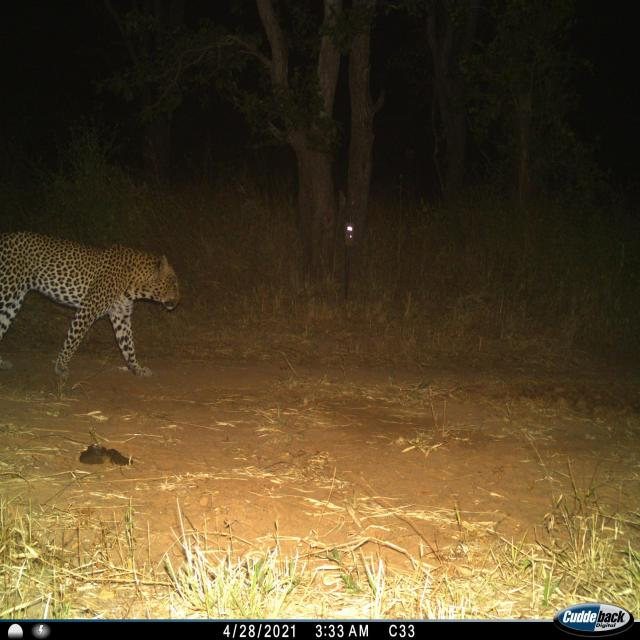Leopard: (0, 210, 180, 405)
